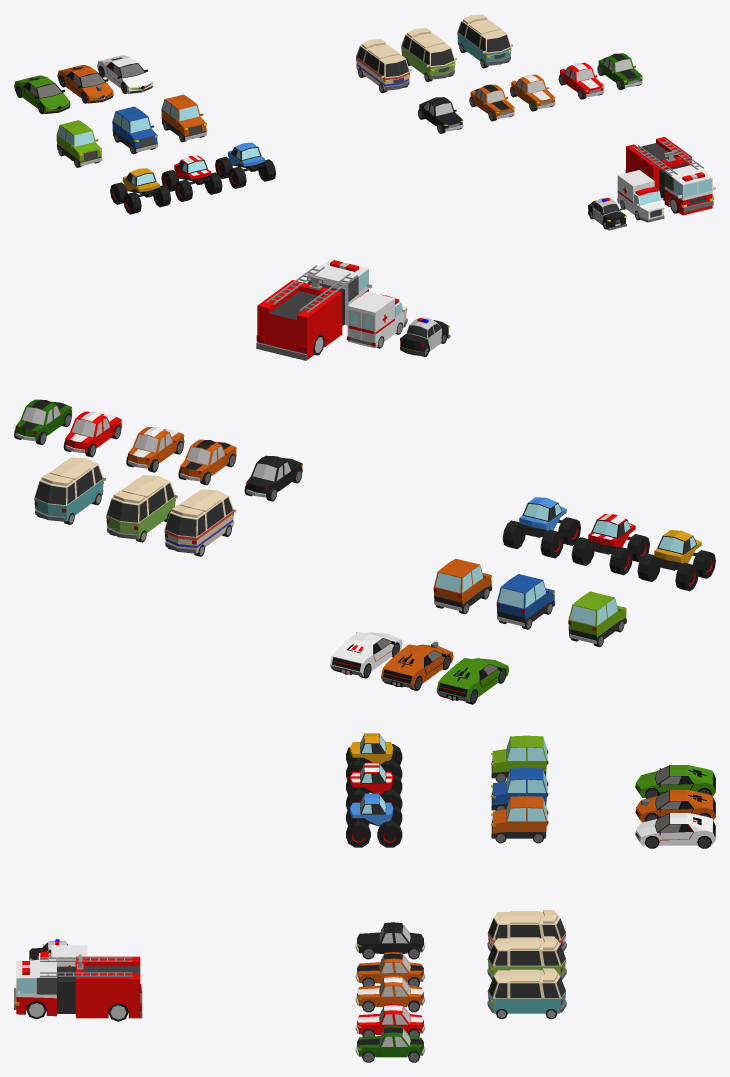
The model's file is car2.fbx.
The picture shows the model from 3 angles, top to bottom: view 1: azimuth 30°, elevation 25°; view 2: azimuth 150°, elevation 25°; view 3: azimuth 270°, elevation 25°; orthographic projection. The views are drawn at different scales.
Parts seen in each view (by area): view 1: Cube.089, Cube.114, Cube.118, Cube.122, Cube, Cube.138, Cube.130, Cube.134, Cube.142, Cube.146, Cube.144, Cube.099 (+11 smaller); view 2: Cube.089, Cube.114, Cube.122, Cube.118, Cube, Cube.138, Cube.130, Cube.134, Cube.144, Cube.142, Cube.146, Cube.126 (+11 smaller); view 3: Cube.089, Cube.122, Cube.118, Cube.114, Cube.142, Cube.130, Cube.146, Cube.138, Cube.144, Cube.134, Cube.126, Cube.095 (+9 smaller).
Boxes of the visible parts, x1,y1,x2,y2 form: Cube.089: (626, 137, 713, 215); Cube.114: (356, 39, 409, 90); Cube.118: (401, 28, 455, 79); Cube.122: (457, 14, 511, 65); Cube: (617, 170, 664, 222); Cube.138: (56, 120, 102, 166); Cube.130: (161, 94, 206, 140); Cube.134: (112, 106, 157, 152); Cube.142: (97, 55, 153, 93); Cube.146: (14, 75, 70, 113); Cube.144: (57, 65, 113, 103); Cube.099: (470, 84, 514, 118); Cube.089: (256, 259, 368, 360); Cube.114: (164, 489, 233, 553); Cube.122: (34, 457, 103, 521); Cube.118: (106, 475, 175, 539); Cube: (347, 291, 407, 348); Cube.138: (568, 591, 626, 644); Cube.130: (433, 558, 492, 611); Cube.134: (496, 574, 555, 626); Cube.144: (381, 641, 453, 688); Cube.142: (330, 632, 402, 676); Cube.146: (436, 658, 508, 702); Cube.126: (15, 399, 72, 441); Cube.089: (14, 954, 142, 1021); Cube.122: (487, 968, 566, 1013); Cube.118: (487, 936, 566, 979); Cube.114: (487, 910, 566, 951); Cube.142: (635, 813, 715, 845); Cube.130: (491, 796, 547, 838); Cube.146: (635, 765, 715, 797); Cube.138: (491, 735, 547, 778); Cube.144: (635, 790, 715, 822); Cube.134: (491, 768, 547, 810); Cube.126: (355, 1026, 425, 1057); Cube.095: (355, 922, 425, 953).
Bounding box in the file's own units: 5674 × 463 × 5646.
Materials: 2 (2 with a texture image).
